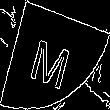M_N: (30, 23, 80, 87)
